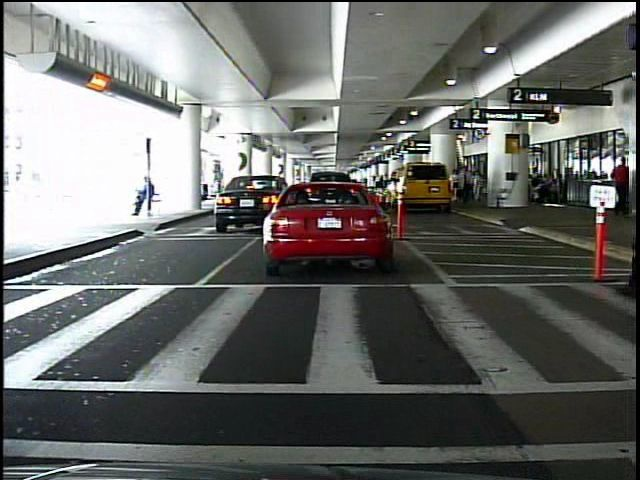person: (614, 155, 638, 304), (614, 155, 632, 215)
